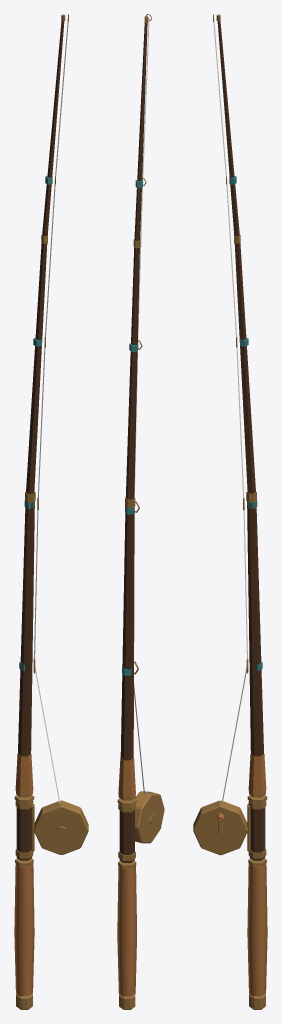
The model's file is tool_fishing_rod_river_a.glb.
3 renders of one model, left to right at view 1: azimuth 90°, elevation 25°; view 2: azimuth 150°, elevation 25°; view 3: azimuth 270°, elevation 25°, orthographic.
Visible parts, largest first — view 1: rod_blank_section_1, rod_butt_cap, rod_foregrip, rod_line_segment_00, rod_guide_wrap_00; view 2: rod_blank_section_1, rod_foregrip, rod_butt_cap, rod_line_segment_00, rod_guide_wrap_00; view 3: rod_blank_section_1, rod_butt_cap, rod_foregrip, rod_line_segment_00, rod_guide_wrap_00.
Part boxes in pixels (left/top/right/bottom): rod_blank_section_1: left=16, top=21, right=64, bottom=860; rod_butt_cap: left=14, top=14, right=88, bottom=1009; rod_foregrip: left=14, top=754, right=34, bottom=996; rod_line_segment_00: left=34, top=18, right=68, bottom=803; rod_guide_wrap_00: left=19, top=175, right=52, bottom=670; rod_blank_section_1: left=119, top=22, right=147, bottom=862; rod_foregrip: left=117, top=758, right=137, bottom=996; rod_butt_cap: left=117, top=14, right=164, bottom=1009; rod_line_segment_00: left=134, top=17, right=149, bottom=794; rod_guide_wrap_00: left=122, top=180, right=142, bottom=675; rod_blank_section_1: left=217, top=21, right=265, bottom=860; rod_butt_cap: left=193, top=14, right=267, bottom=1009; rod_foregrip: left=217, top=754, right=267, bottom=996; rod_line_segment_00: left=213, top=18, right=247, bottom=803; rod_guide_wrap_00: left=229, top=175, right=262, bottom=670.
Bounding box in the file's own units: 0.0699 × 2.82 × 0.1911.
